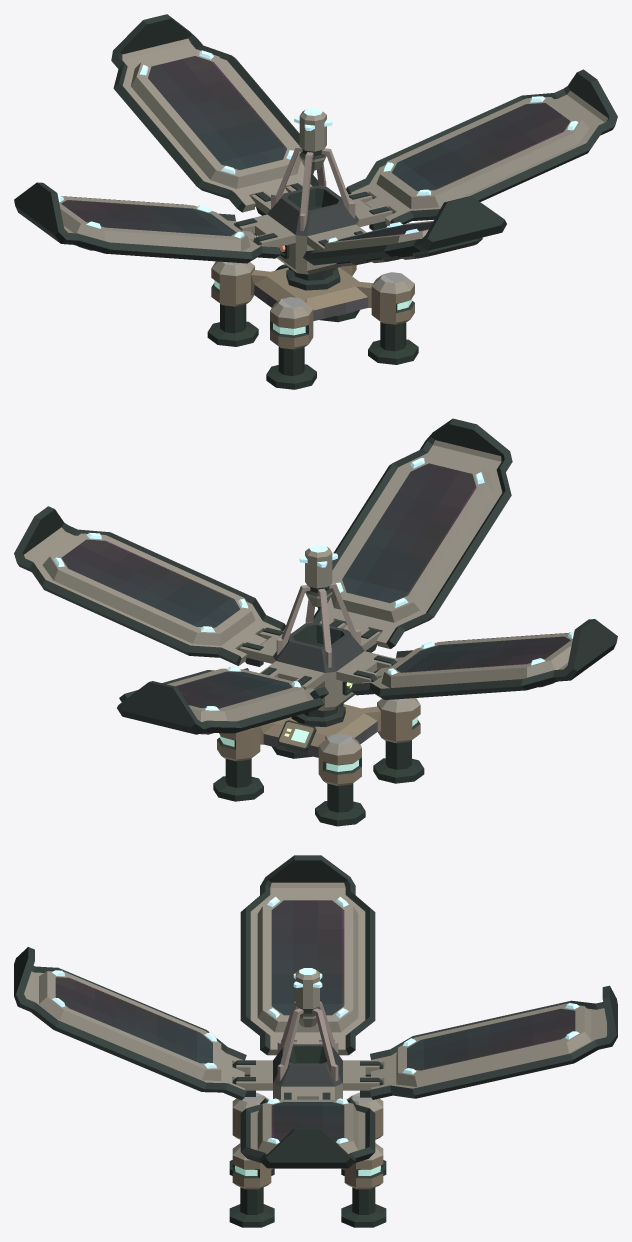
Rendered from entity106792.glb.
3 renders of one model, top to bottom at view 1: azimuth 30°, elevation 25°; view 2: azimuth 150°, elevation 25°; view 3: azimuth 270°, elevation 25°, orthographic. The views are drawn at different scales.
Parts seen in each view (by area): view 1: node_SM_Prop_Satellite_02, node_SM_Prop_Satellite_02_Arm_04, node_SM_Prop_Satellite_02_Arm_03, node_SM_Prop_Satellite_02_Arm_01, node_SM_Prop_Satellite_02_Arm_02; view 2: node_SM_Prop_Satellite_02_Arm_02, node_SM_Prop_Satellite_02, node_SM_Prop_Satellite_02_Arm_03, node_SM_Prop_Satellite_02_Arm_01, node_SM_Prop_Satellite_02_Arm_04; view 3: node_SM_Prop_Satellite_02_Arm_01, node_SM_Prop_Satellite_02, node_SM_Prop_Satellite_02_Arm_04, node_SM_Prop_Satellite_02_Arm_02, node_SM_Prop_Satellite_02_Arm_03.
Part boxes in pixels (bbox=[...]): node_SM_Prop_Satellite_02: bbox=[207, 108, 418, 389]; node_SM_Prop_Satellite_02_Arm_04: bbox=[111, 14, 318, 212]; node_SM_Prop_Satellite_02_Arm_03: bbox=[346, 69, 617, 226]; node_SM_Prop_Satellite_02_Arm_01: bbox=[14, 182, 280, 263]; node_SM_Prop_Satellite_02_Arm_02: bbox=[303, 196, 506, 266]; node_SM_Prop_Satellite_02_Arm_02: bbox=[313, 418, 512, 648]; node_SM_Prop_Satellite_02: bbox=[213, 544, 424, 826]; node_SM_Prop_Satellite_02_Arm_03: bbox=[14, 506, 285, 665]; node_SM_Prop_Satellite_02_Arm_01: bbox=[351, 619, 617, 699]; node_SM_Prop_Satellite_02_Arm_04: bbox=[117, 666, 328, 734]; node_SM_Prop_Satellite_02_Arm_01: bbox=[240, 855, 375, 1055]; node_SM_Prop_Satellite_02: bbox=[229, 968, 386, 1227]; node_SM_Prop_Satellite_02_Arm_04: bbox=[370, 985, 617, 1099]; node_SM_Prop_Satellite_02_Arm_02: bbox=[14, 947, 246, 1100]; node_SM_Prop_Satellite_02_Arm_03: bbox=[240, 1098, 375, 1168].
Size of the model in its own units: 9.87 by 4.26 by 9.62.
1 material, 1 textured.
